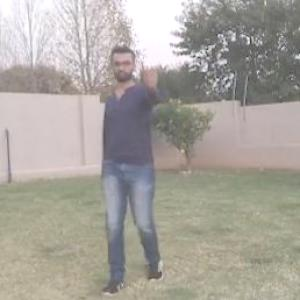takeoff-hand: (138, 52, 168, 90)
